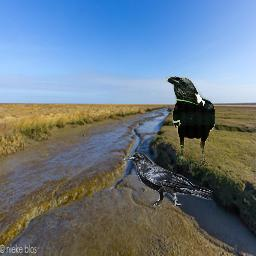Crow: (123, 152, 215, 208), (165, 76, 215, 167)
